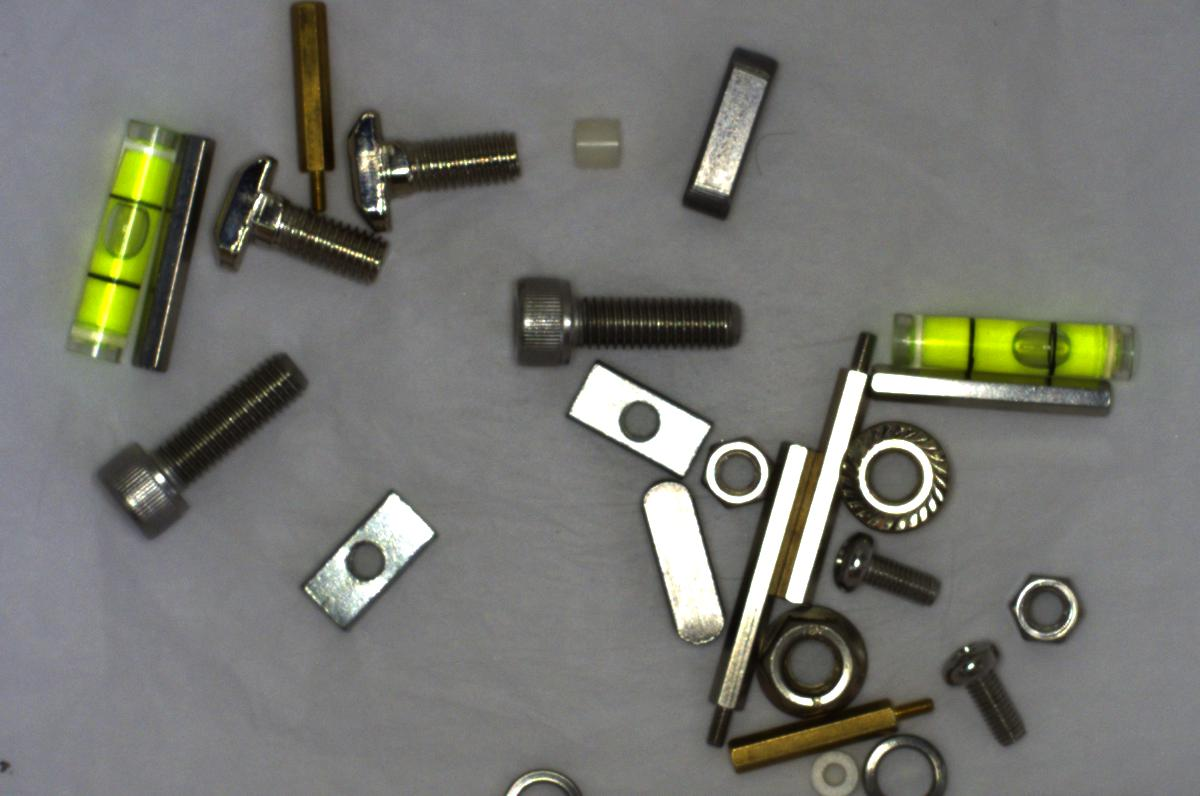Double hexagonal column: (129, 131, 221, 377), (860, 359, 1130, 423)
Flange nut: (747, 605, 884, 730), (834, 415, 961, 536)
Hexagon nut: (998, 568, 1092, 654), (693, 433, 774, 513)
Hexagon pillar: (728, 686, 932, 771), (279, 9, 350, 221)
Hexagon screw: (97, 348, 306, 544), (491, 269, 752, 369)
Hexagonal steel column: (696, 427, 806, 750), (774, 331, 878, 608)
Horizontal bubble: (62, 115, 179, 359), (876, 308, 1144, 387)
Keybar: (671, 28, 792, 221), (643, 474, 741, 655)
Plastic cushion pillar: (562, 108, 628, 177), (803, 742, 858, 795)
Rectangular nut: (302, 482, 435, 627), (569, 359, 716, 474)
Round head screw: (944, 628, 1035, 751), (825, 533, 955, 612)
Spring washer: (858, 731, 950, 795)
T-shaped screw: (339, 87, 541, 240), (221, 148, 394, 289)
